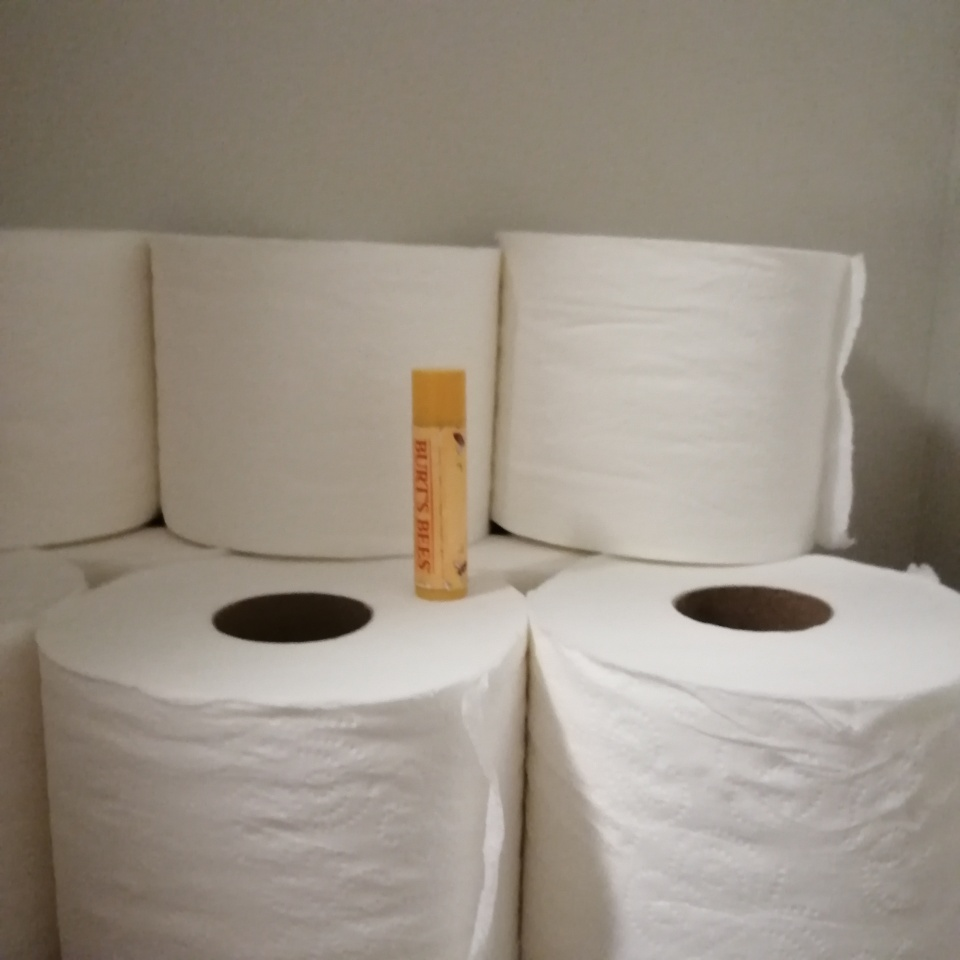chapstick: (411, 367, 470, 600)
